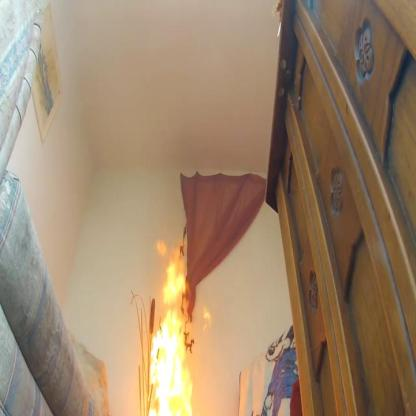fire: (145, 236, 198, 416)
